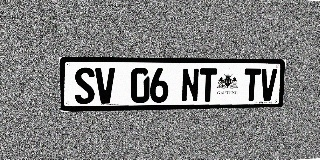0: (131, 68, 149, 103)
6: (150, 68, 169, 103)
N: (181, 68, 199, 102)
S: (74, 67, 95, 104)
T: (199, 68, 217, 102), (243, 68, 261, 101)
V: (95, 68, 115, 104), (260, 69, 277, 101)
